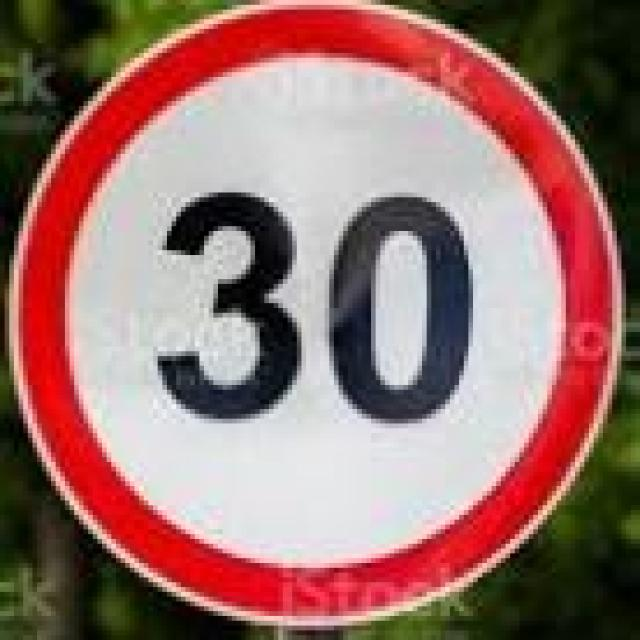speed_limit_30: (0, 0, 617, 630)
